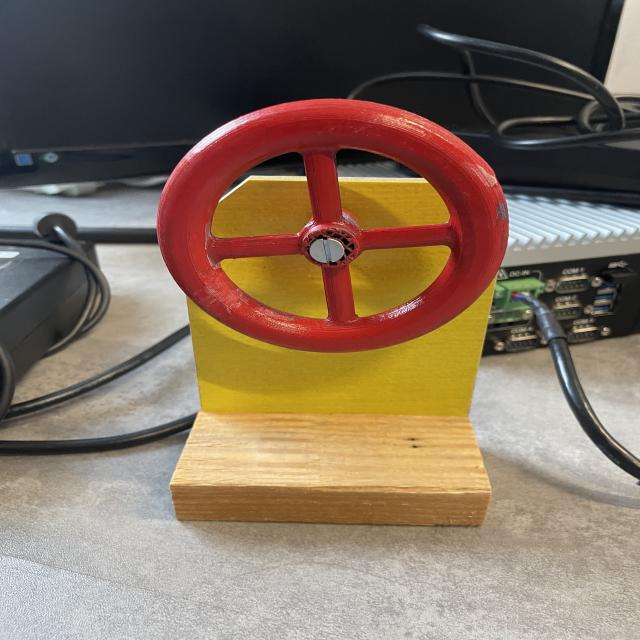Wheel Handle Valve Threaded: (149, 85, 518, 354)
